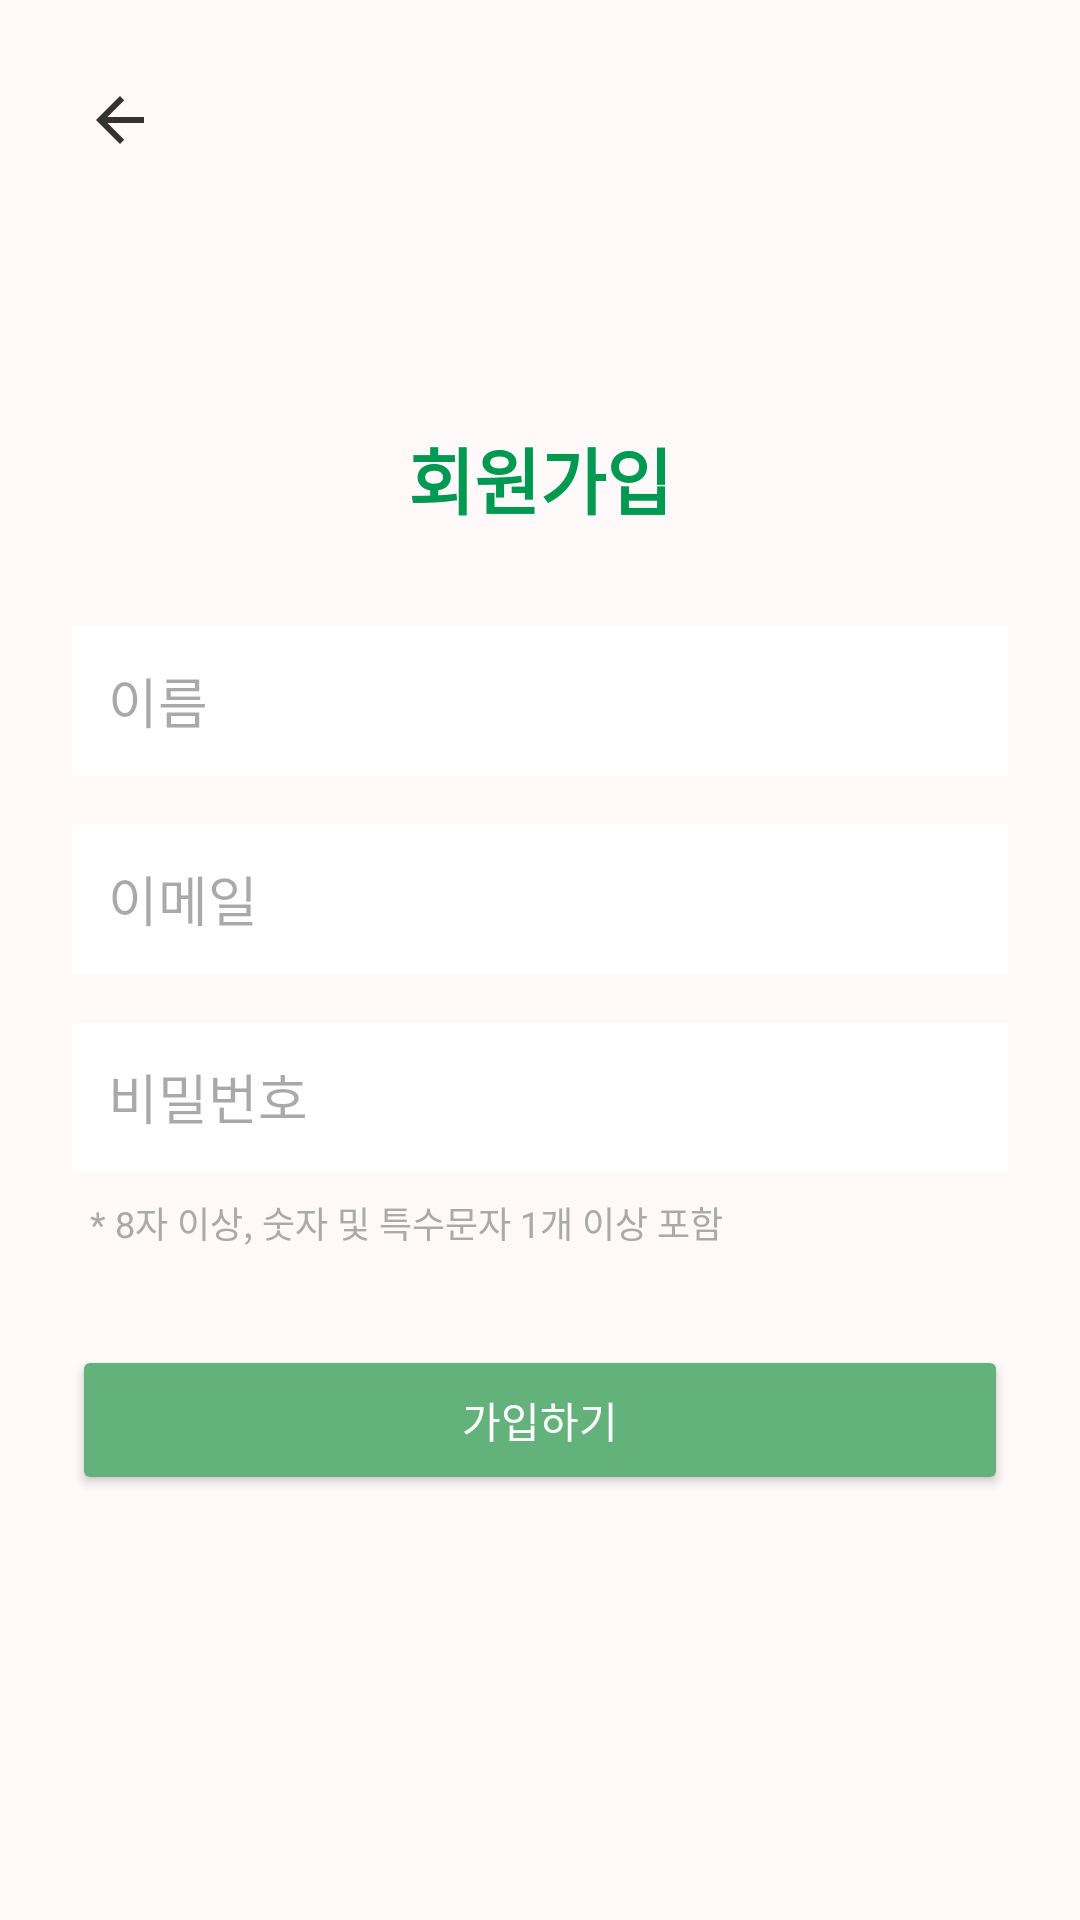

Named icons in this screenshot (1080*1920) and their centers, (x=x, y=y):
back: (x=120, y=120)
